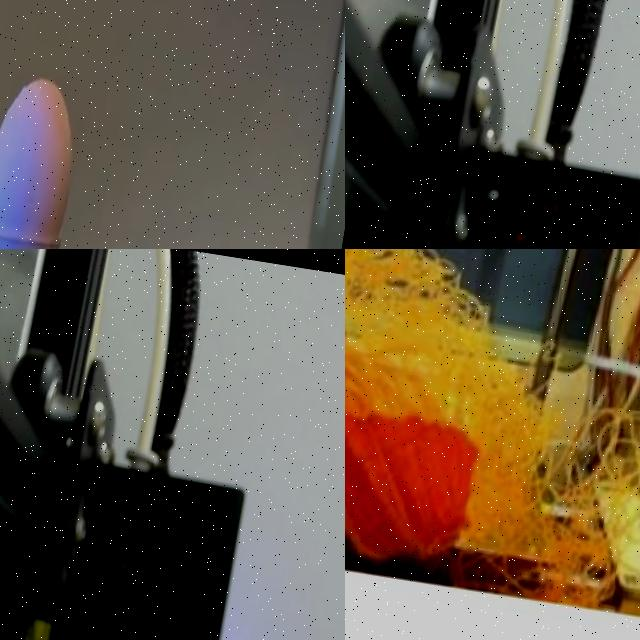spaghetti: (345, 249, 640, 627)
